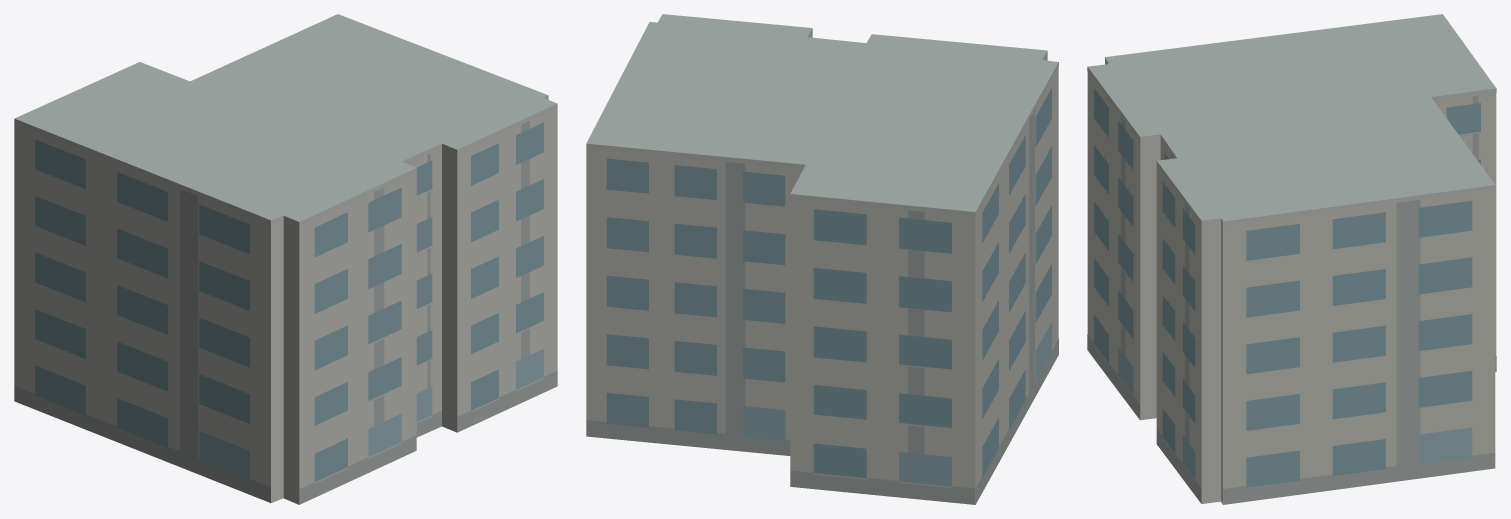
Rendered from survey-upis-32620704.glb.
3 views of the same model, side by side, from view 1: azimuth 30°, elevation 25°; view 2: azimuth 150°, elevation 25°; view 3: azimuth 270°, elevation 25° (orthographic). The views are drawn at different scales.
Visible parts, largest first — view 1: survey-upis-32620704.tmp; view 2: survey-upis-32620704.tmp; view 3: survey-upis-32620704.tmp.
Boxes of the visible parts, <box> form: survey-upis-32620704.tmp: <box>14,14,557,504</box>; survey-upis-32620704.tmp: <box>586,14,1058,504</box>; survey-upis-32620704.tmp: <box>1087,14,1496,504</box>.
Size of the model in its own units: 23.57 by 15 by 19.63.
